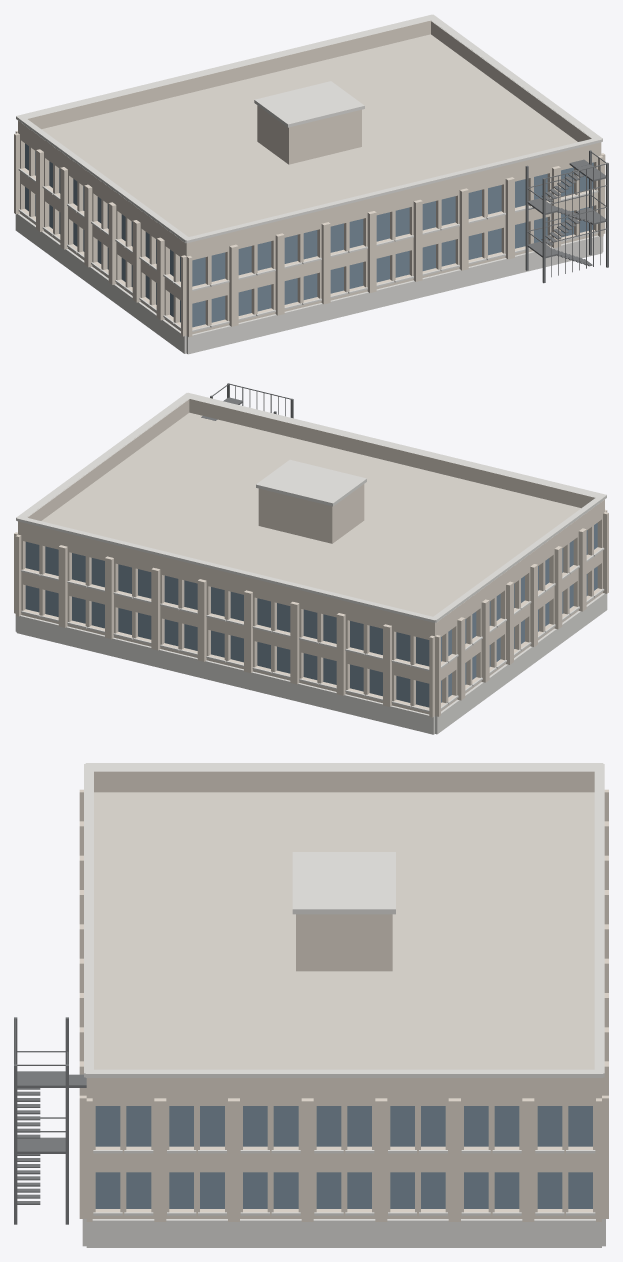
The model's file is East_Block_2.fbx.
3 renders of one model, top to bottom at view 1: azimuth 30°, elevation 25°; view 2: azimuth 150°, elevation 25°; view 3: azimuth 270°, elevation 25°, orthographic. The views are drawn at different scales.
Visible parts, largest first — view 1: East_Block_2; view 2: East_Block_2; view 3: East_Block_2.
Part boxes in pixels (x1,y1,x2,y2): East_Block_2: (14, 14, 608, 354); East_Block_2: (14, 383, 608, 734); East_Block_2: (14, 763, 608, 1247).
Bounding box in the file's own units: 34.64 × 10.85 × 27.7.
